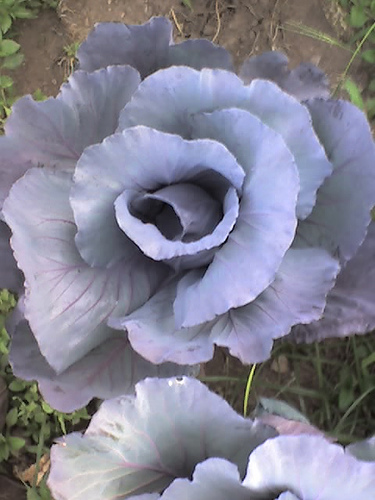cabbage: (0, 17, 373, 412), (48, 373, 373, 498)
